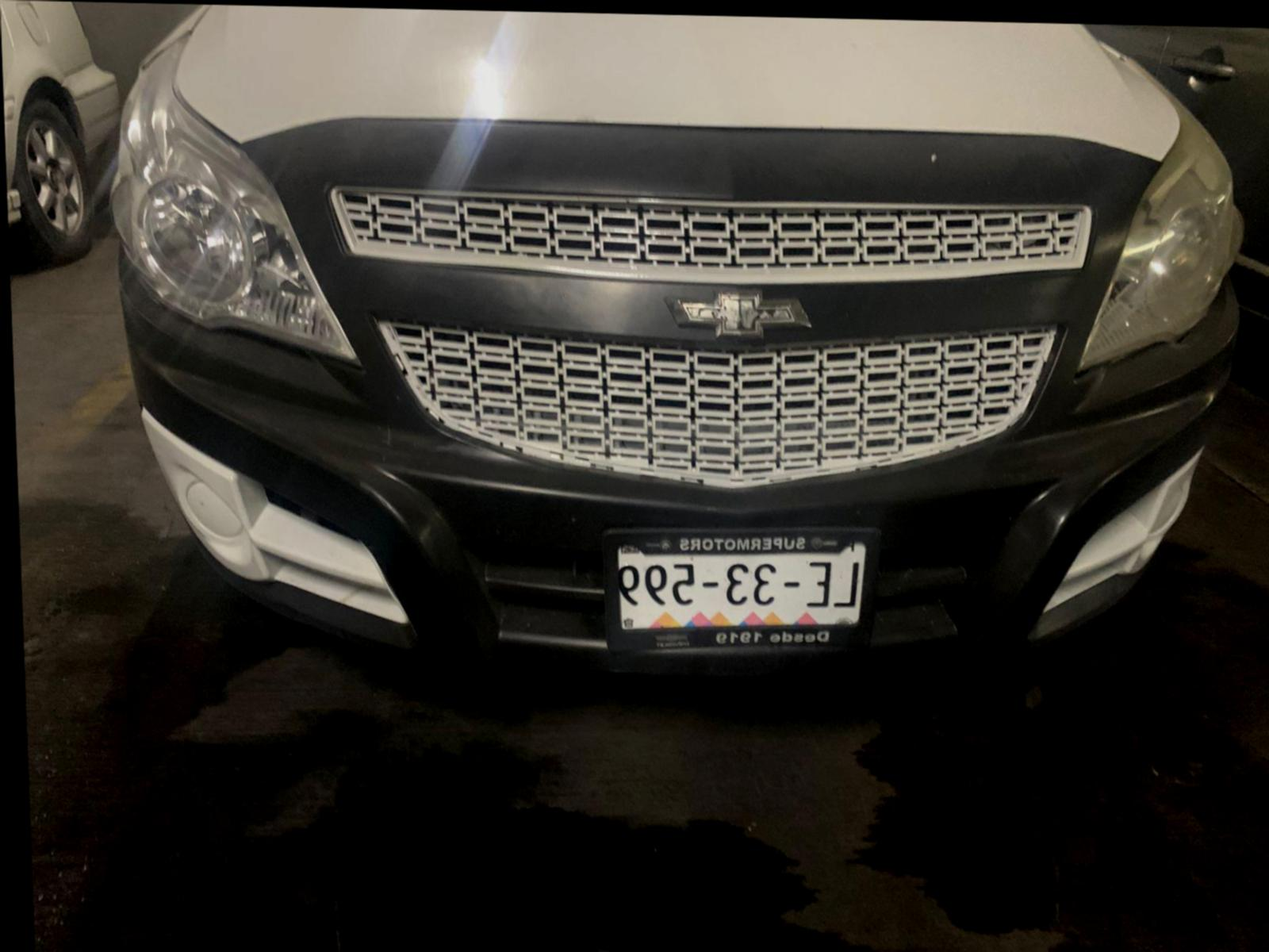License_Plate: (585, 510, 903, 686)
